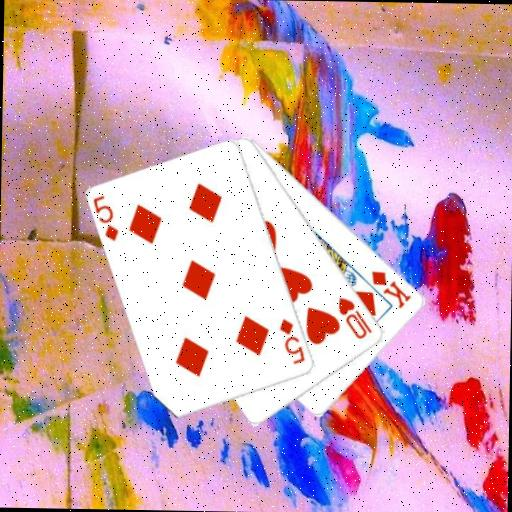10H: (335, 293, 375, 341)
5D: (89, 192, 121, 243), (277, 316, 308, 367)
KD: (368, 268, 414, 311)
